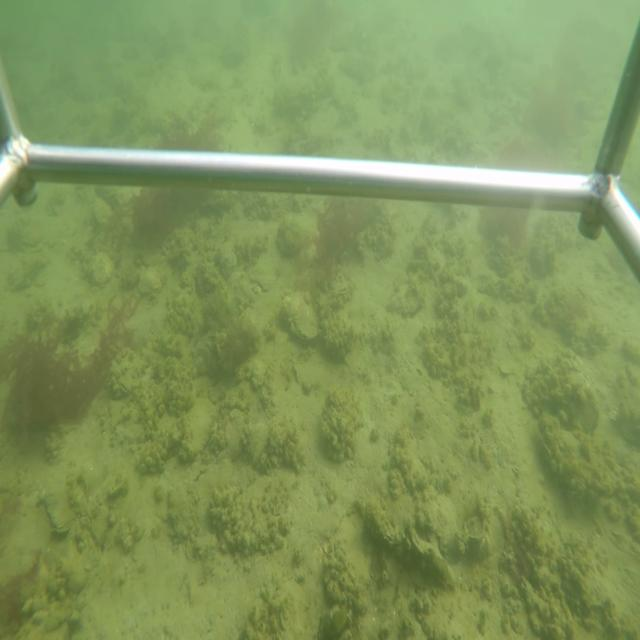Oyster-Closed: (531, 406, 616, 492), (279, 284, 319, 349)
Oyster-Indeterminate: (176, 395, 222, 460), (222, 406, 249, 464), (242, 420, 270, 471)
